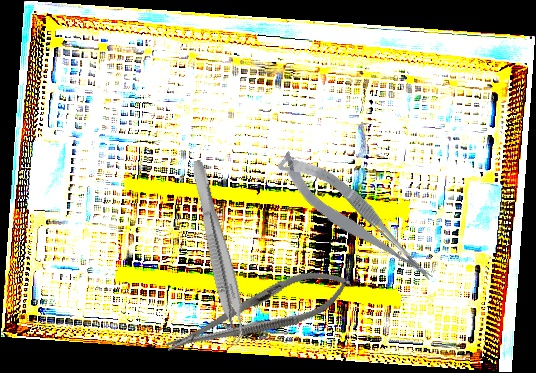Micro Scissor: (271, 136, 440, 303)
Needle Holder: (158, 257, 358, 369)
Tissue Forceps: (179, 158, 254, 348)
